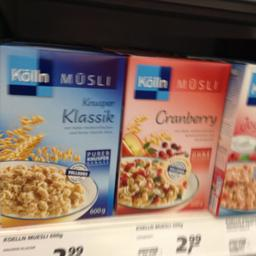cereal: (0, 44, 125, 228), (116, 46, 230, 215)
